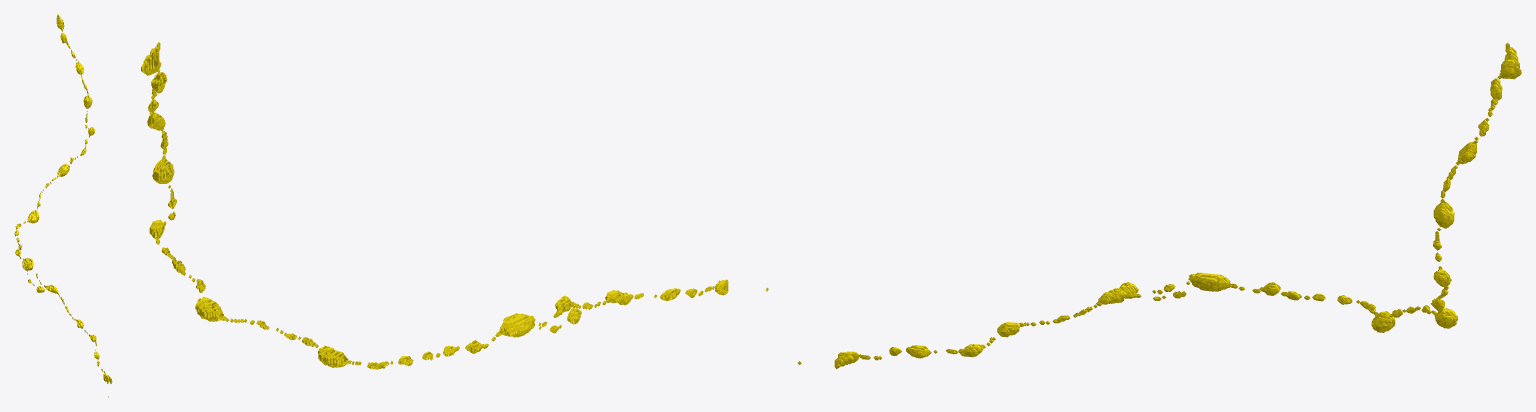
The model's file is SVV_Fragment6.gltf.
3 renders of one model, left to right at view 1: azimuth 30°, elevation 25°; view 2: azimuth 150°, elevation 25°; view 3: azimuth 270°, elevation 25°, orthographic. The views are drawn at different scales.
Parts seen in each view (by area): view 1: Fragment6; view 2: Fragment6; view 3: Fragment6.
Boxes of the visible parts, <box> form: Fragment6: <box>14,14,112,397</box>; Fragment6: <box>141,42,768,369</box>; Fragment6: <box>798,42,1521,369</box>.
Bounding box in the file's own units: 99749 × 144439 × 212251.
